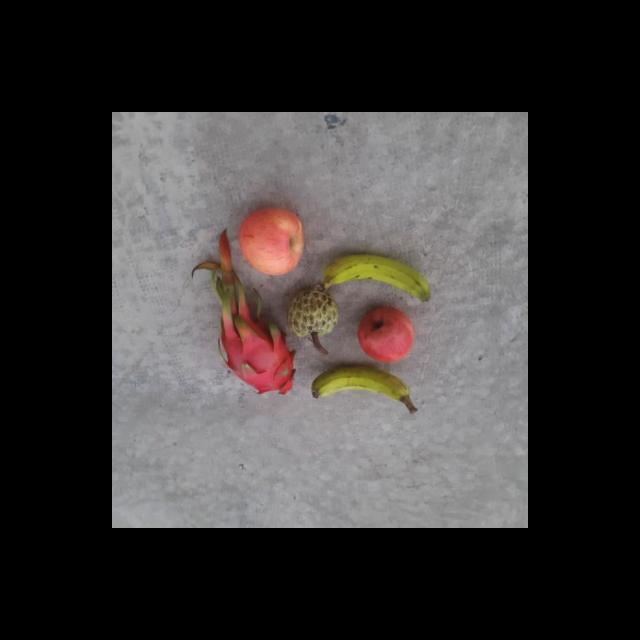Sakya fruit: (285, 288, 337, 338)
apple: (236, 207, 304, 280), (354, 302, 418, 363)
banana: (318, 253, 432, 308), (310, 367, 420, 409)
pitaya: (213, 312, 300, 394)
